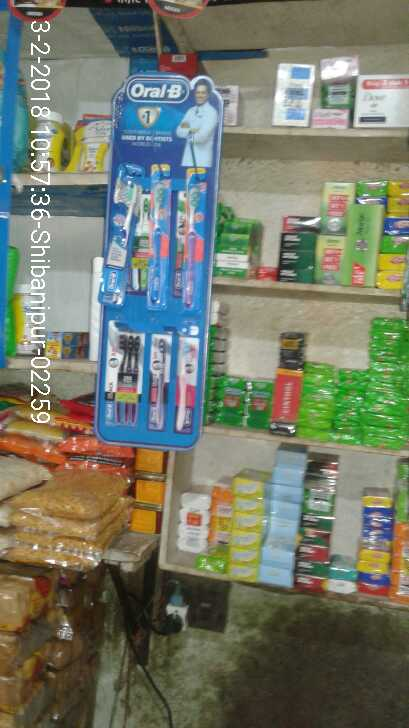oralb: (105, 321, 146, 424), (147, 167, 173, 306), (182, 167, 205, 313), (176, 327, 201, 431), (148, 331, 171, 431)
